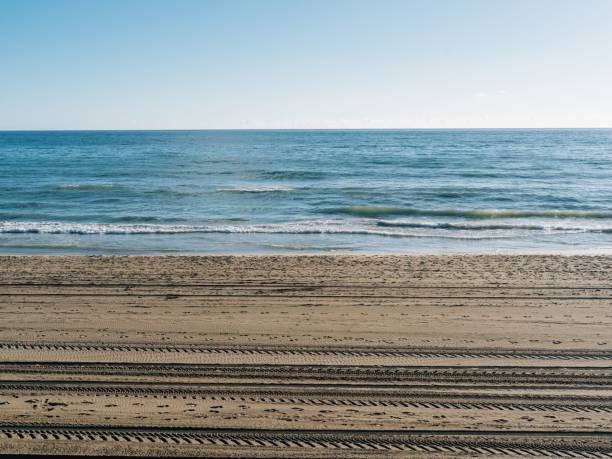vehicle_track: (0, 424, 611, 457), (0, 381, 611, 412), (0, 361, 611, 387), (0, 341, 611, 362)
